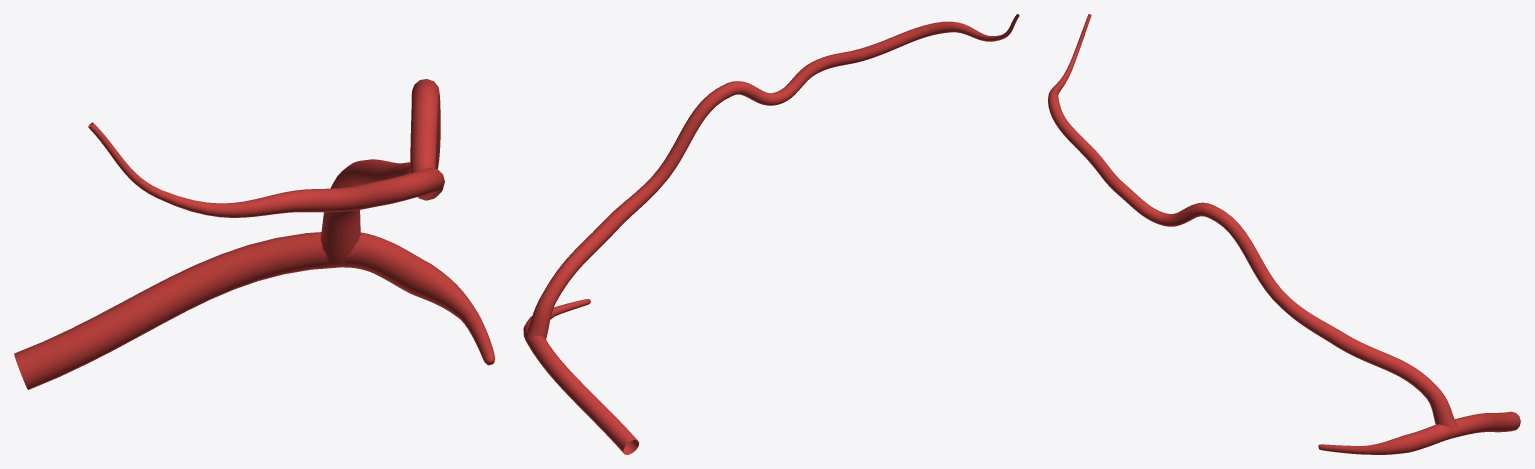
3 renders of one model, left to right at view 1: azimuth 30°, elevation 25°; view 2: azimuth 150°, elevation 25°; view 3: azimuth 270°, elevation 25°, orthographic. The views are drawn at different scales.
Parts seen in each view (by area): view 1: 左侧大脑中动脉顶支; view 2: 左侧大脑中动脉顶支; view 3: 左侧大脑中动脉顶支.
Part boxes in pixels (bbox=[...]): 左侧大脑中动脉顶支: bbox=[14, 79, 494, 389]; 左侧大脑中动脉顶支: bbox=[523, 14, 1019, 454]; 左侧大脑中动脉顶支: bbox=[1048, 14, 1520, 454].
Bounding box in the file's own units: 0.0492 × 0.0465 × 0.0603.
